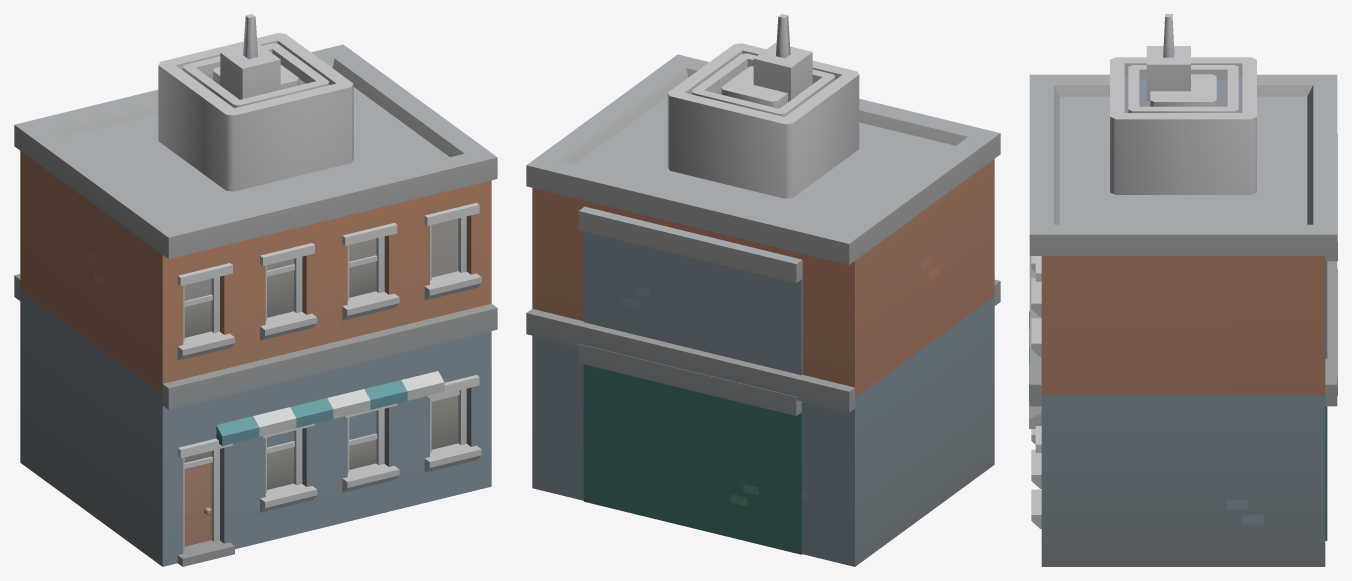
Rendered from club_props.glb.
3 views of the same model, side by side, from view 1: azimuth 30°, elevation 25°; view 2: azimuth 150°, elevation 25°; view 3: azimuth 270°, elevation 25° (orthographic).
Parts seen in each view (by area): view 1: building_b, shop_b, building_a, shop_a; view 2: building_b, building_a, shop_b, shop_a; view 3: building_b, shop_b, shop_a, building_a.
Part boxes in pixels (x1,y1,x2,y2): building_b: (14,44,497,566); shop_b: (158,14,353,191); building_a: (216,371,444,445); shop_a: (182,43,329,108); building_b: (526,54,1000,566); building_a: (578,206,802,554); shop_b: (667,14,859,198); shop_a: (691,53,835,116); building_b: (1029,74,1337,566); shop_b: (1110,14,1256,194); shop_a: (1128,65,1238,112); building_a: (1029,134,1337,540).
Bounding box in the file's own units: 10.37 × 14 × 8.42.
